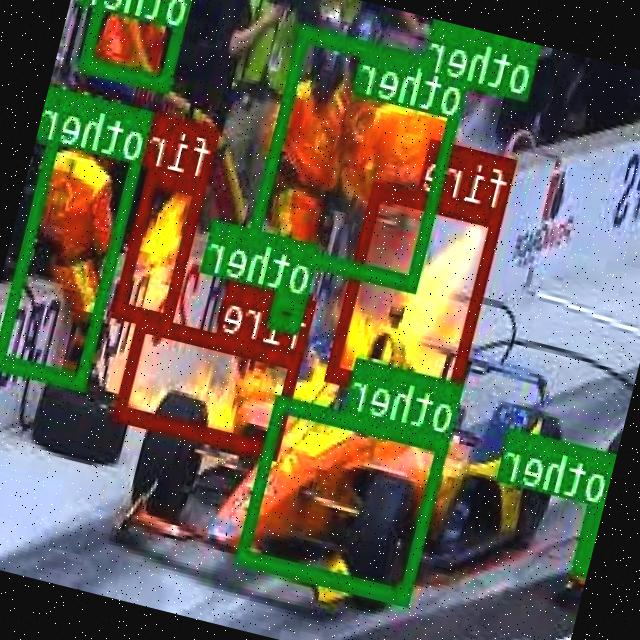fire: (328, 182, 506, 410), (116, 312, 305, 457), (114, 165, 210, 329)
